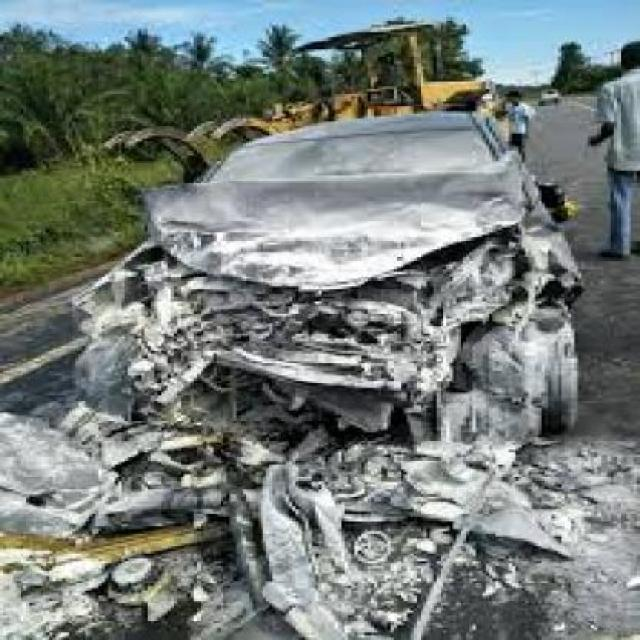accident: (43, 96, 640, 546)
